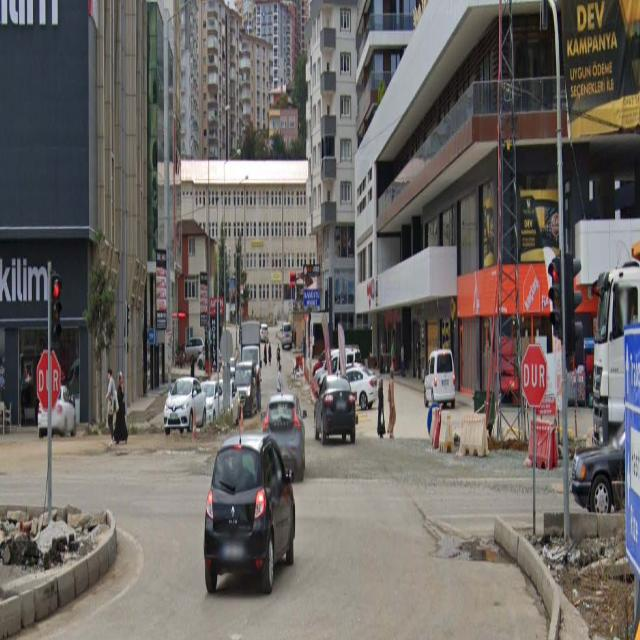dur: (36, 348, 60, 419), (521, 346, 549, 406)
kirmizi: (548, 258, 560, 333), (50, 274, 60, 340)
